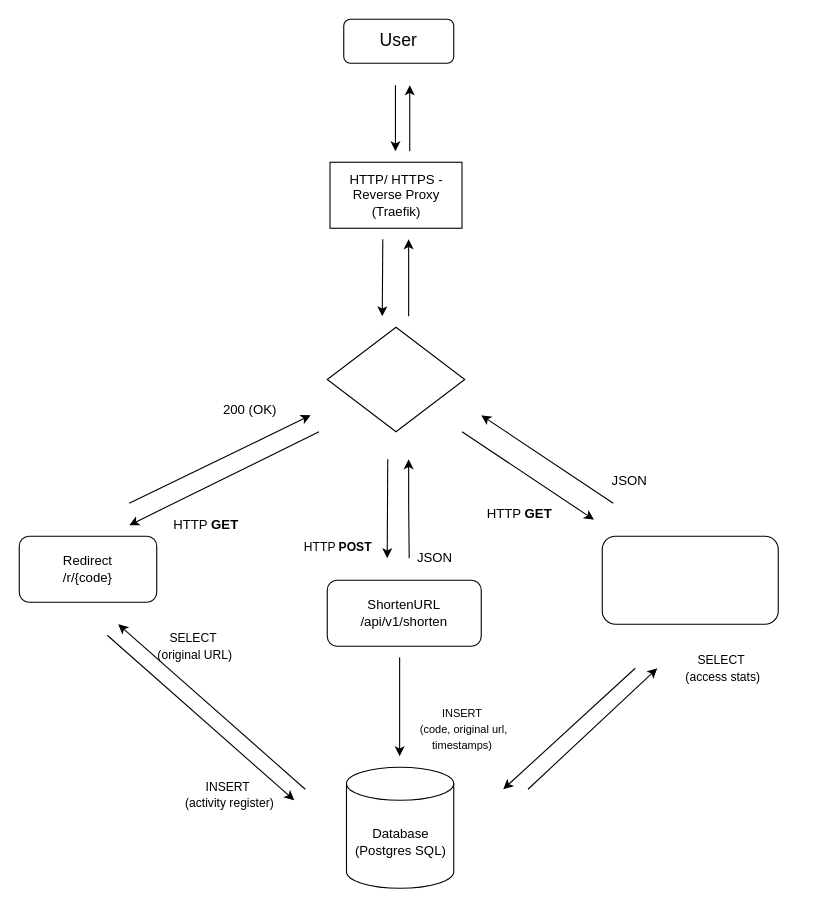
Some shapes in this 820 by 908 pixel diagram are drawn without their labels. The box of each missing label's shape, as (x1, y1, x2, y2) in pixels:
Retrieve Link Statistics /api/v1/stats/{code}: (601, 535, 778, 624)
Service Layer (FastAPI): (326, 326, 465, 432)
